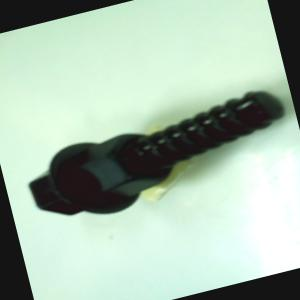parafuso: (13, 79, 300, 236), (16, 82, 300, 234)
